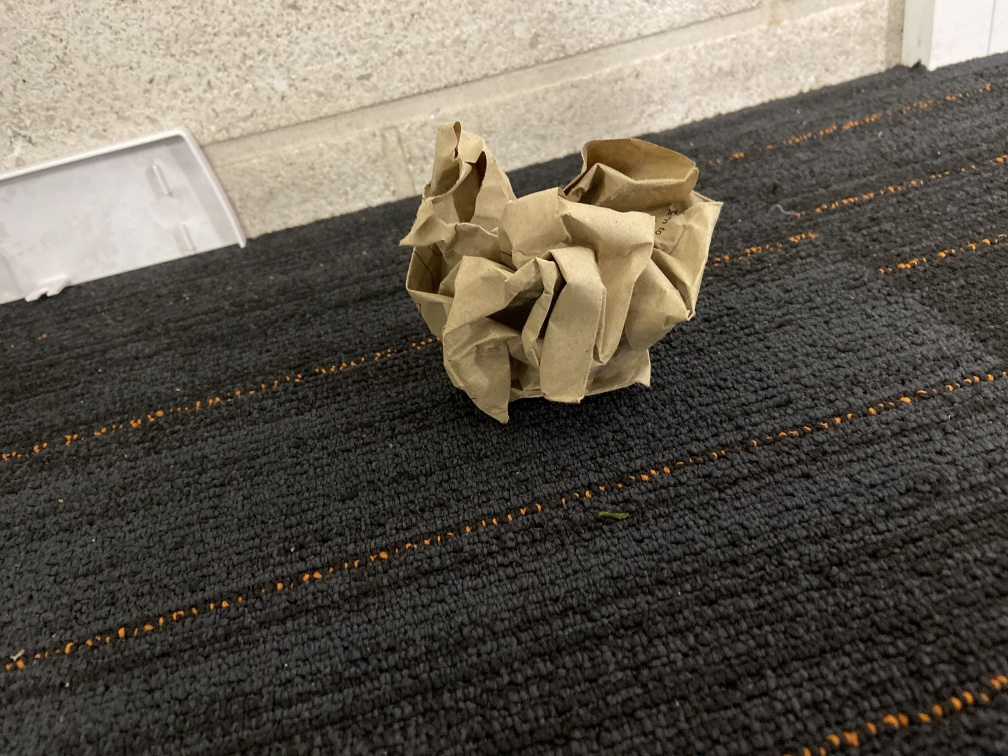paper_brown: (396, 114, 729, 425)
